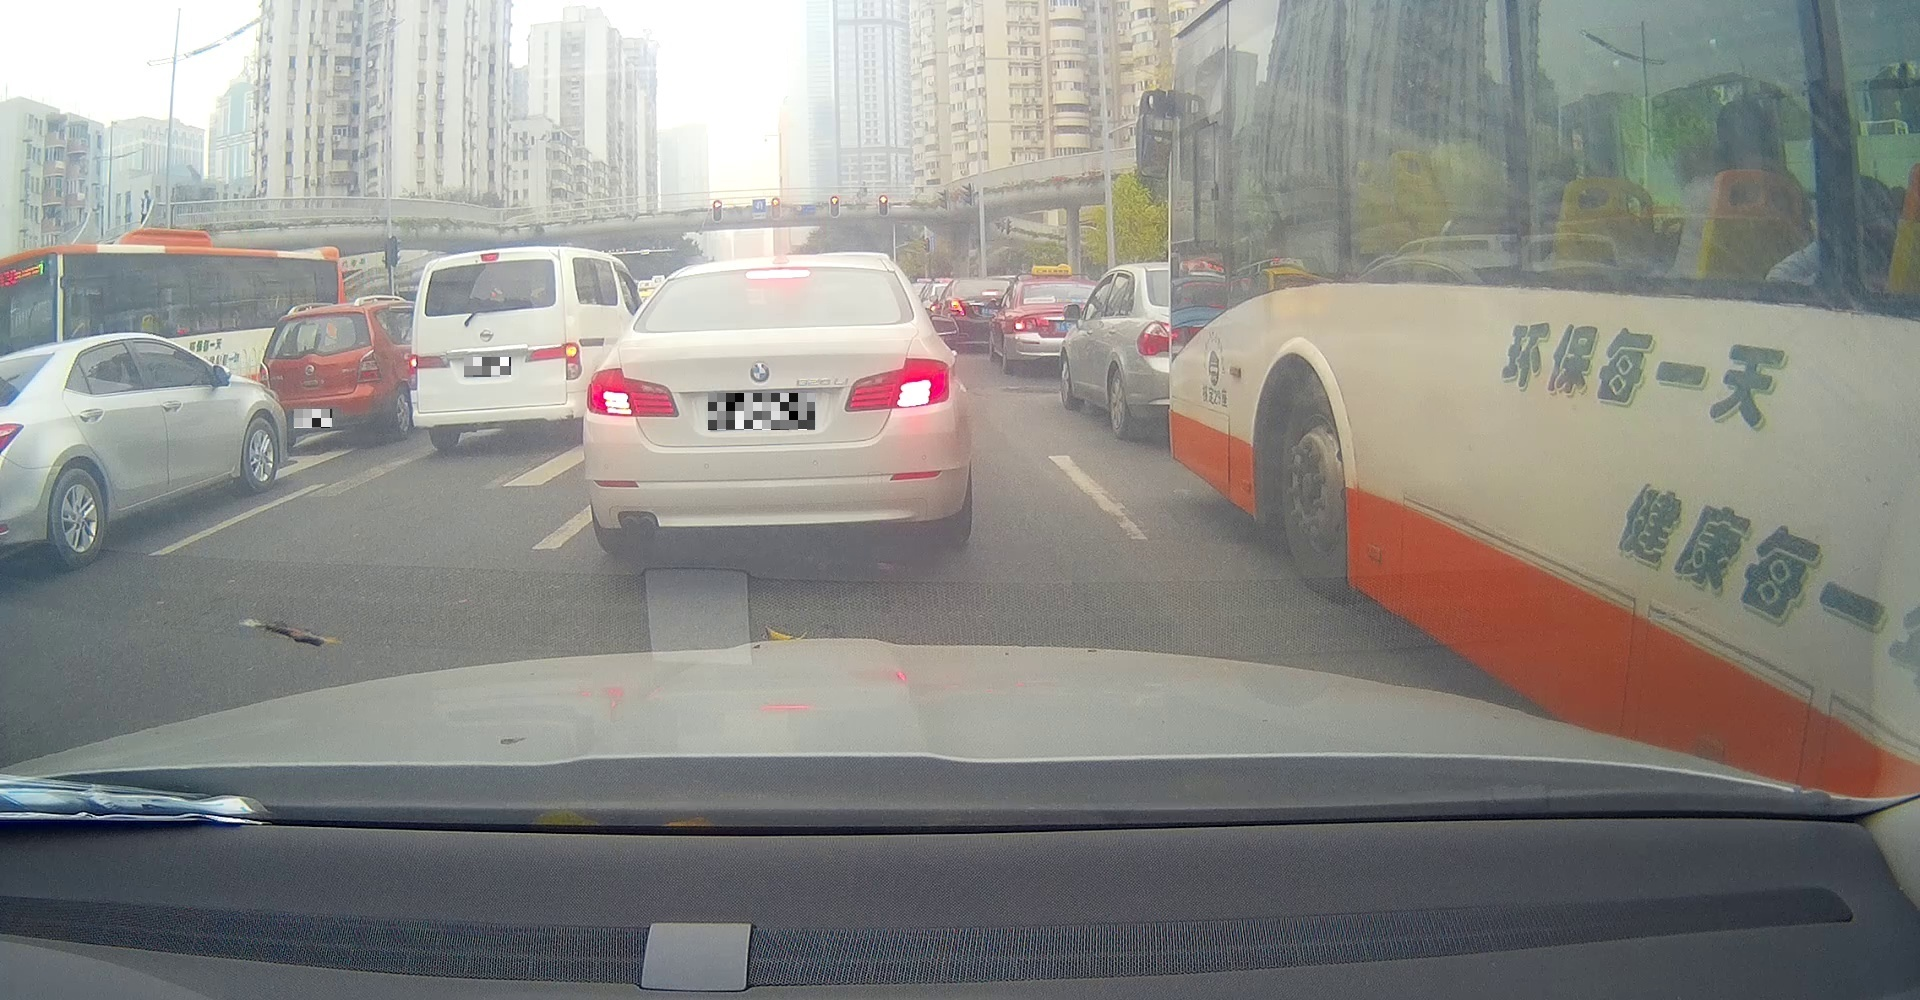L_light: (585, 368, 681, 418), (408, 354, 450, 390), (259, 363, 270, 391)
R_light: (843, 358, 950, 412), (524, 341, 580, 379), (356, 349, 383, 385)
T_light: (744, 266, 810, 280), (479, 253, 499, 261), (303, 313, 326, 321)
day-brake: (583, 253, 968, 557), (405, 247, 582, 442)
day-no: (257, 306, 394, 443)
plate_1: (295, 409, 331, 428)
plate_2: (463, 357, 510, 377)
plate_3: (709, 393, 815, 430)
